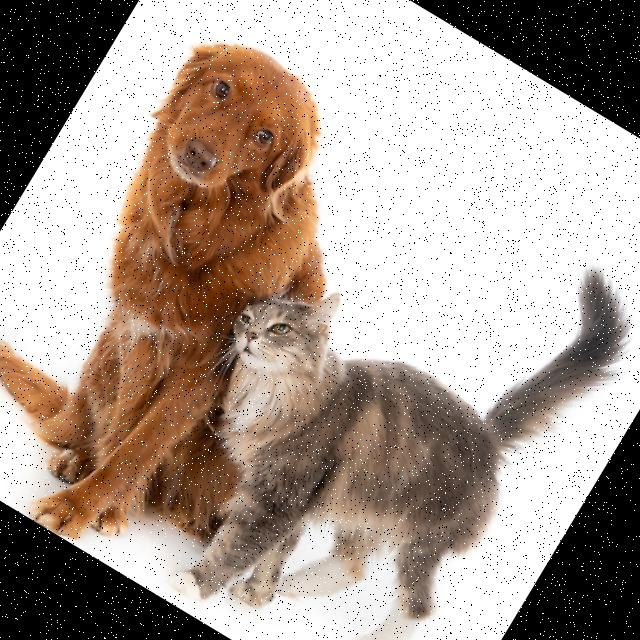Dog: (0, 2, 435, 601)
